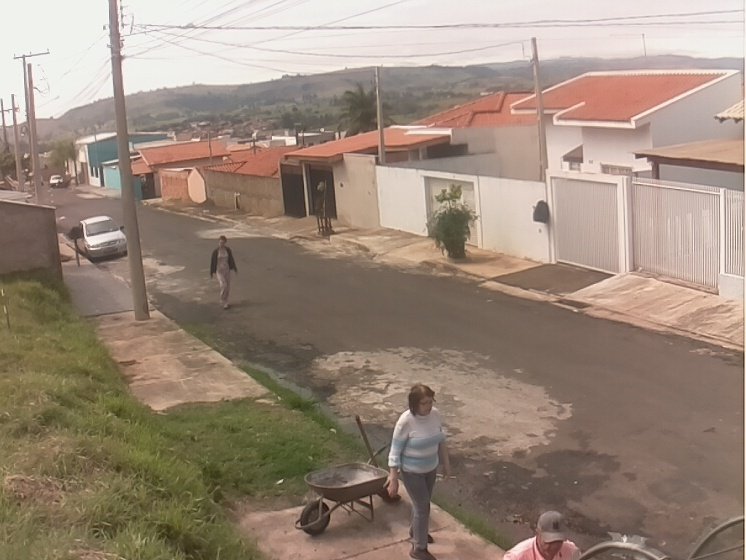person: (387, 382, 452, 560), (502, 510, 581, 560), (209, 234, 239, 311)
